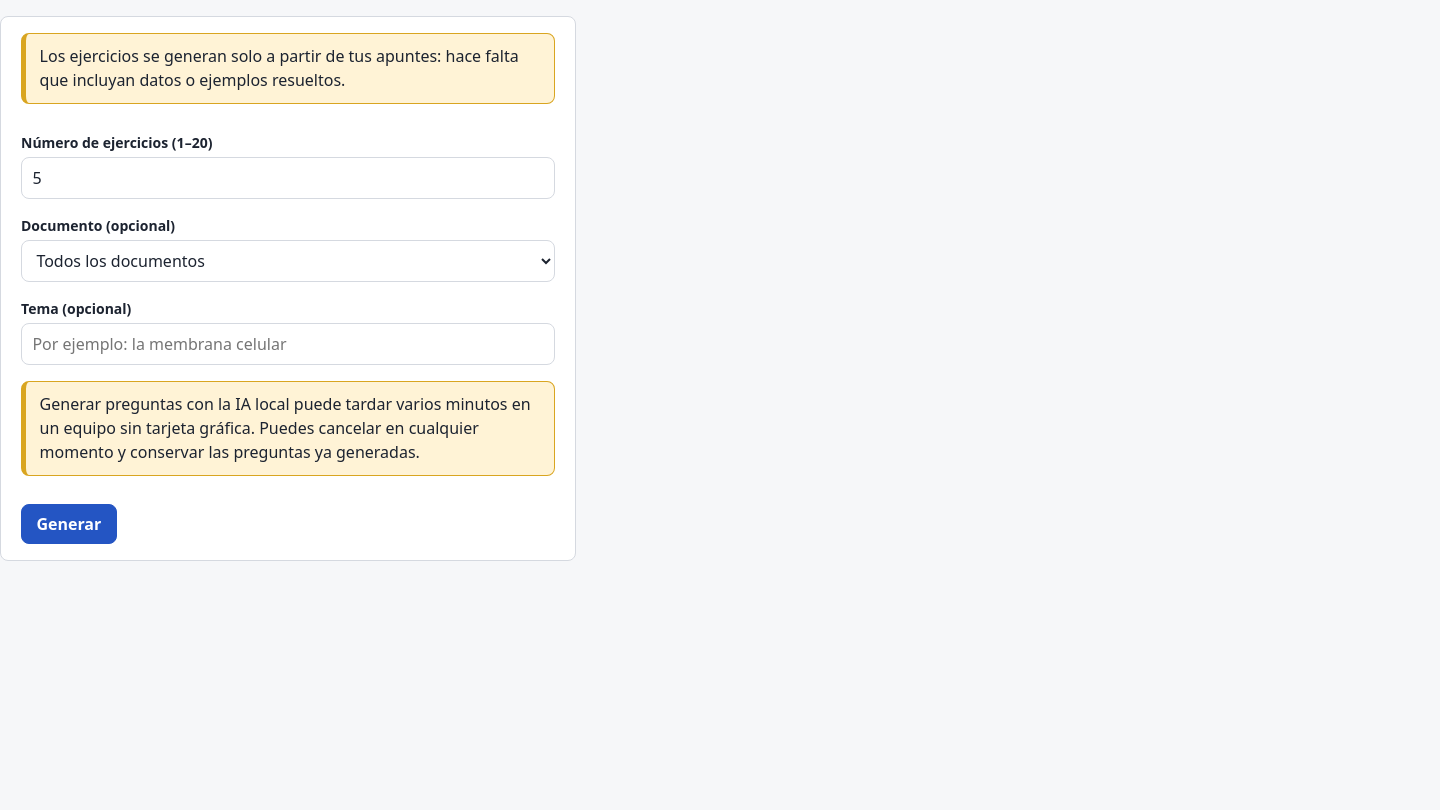
Test: Ejercicios: sin material › el resumen cuenta ejercicios y descartes con esa palabra
The width and height of the screenshot is (1440, 810).
Click the button "Generar": (69, 524) x1=21 y1=504 x2=117 y2=544
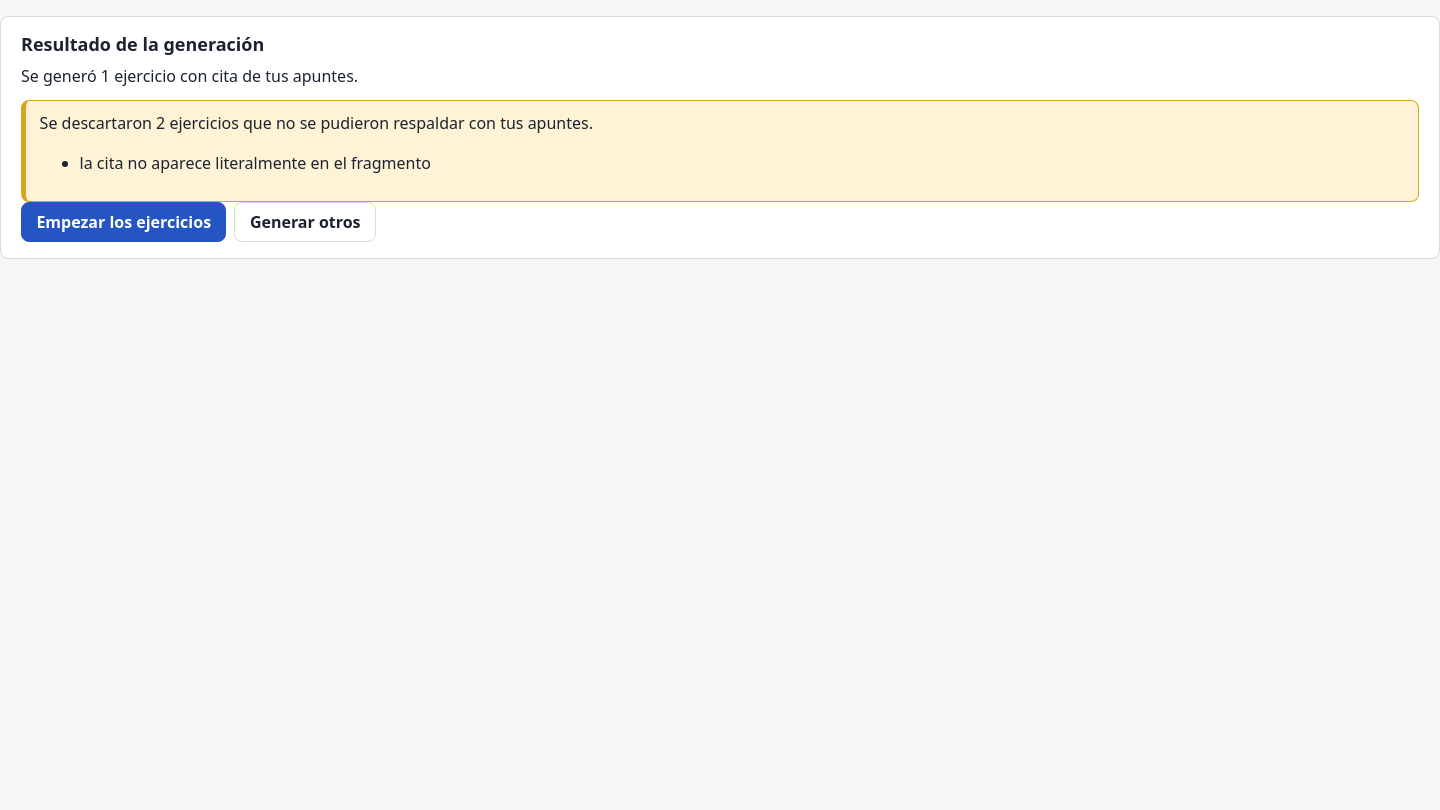
expect the text "Se generó 1 ejercicio con cita de tus apuntes." is shown: met, box x1=21 y1=64 x2=358 y2=86
expect the text "Se descartaron 2 ejercicios que no se pudieron respaldar con tus apuntes." is shown: met, box x1=40 y1=112 x2=593 y2=134
expect the button "Generar otros" is shown: met, box x1=234 y1=202 x2=376 y2=242
